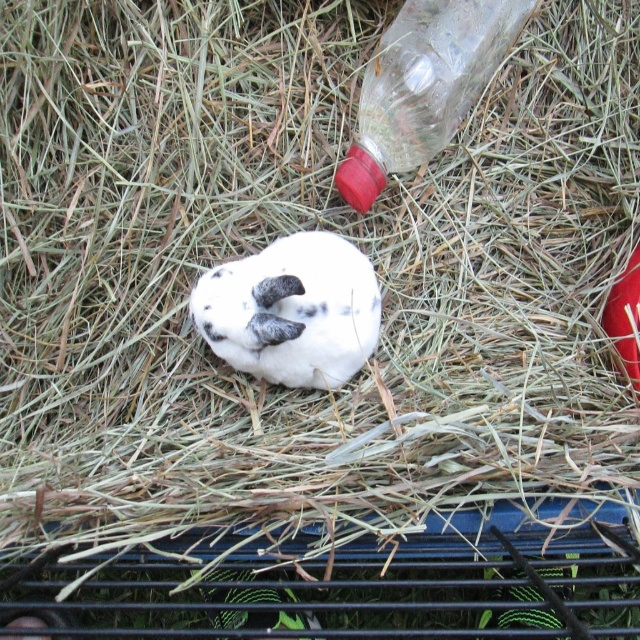Rabbit: (188, 230, 383, 390)
